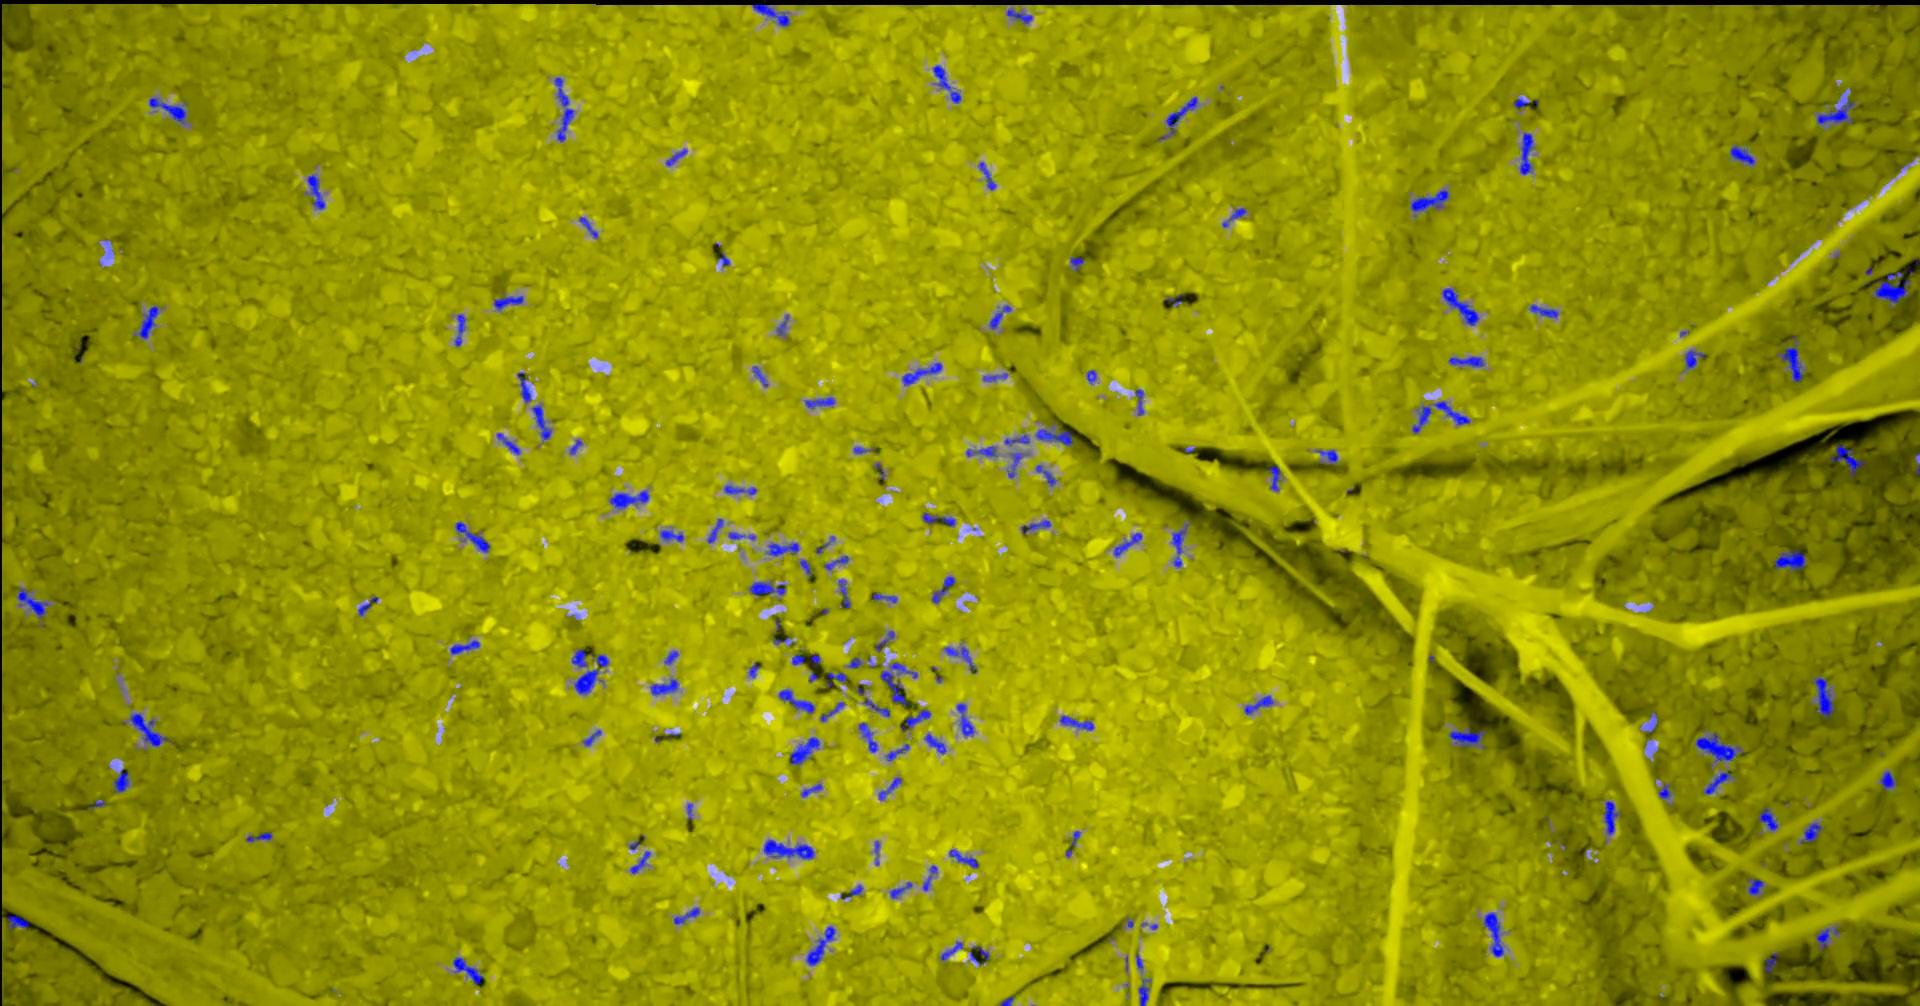ant: (1412, 401, 1469, 433), (1158, 97, 1197, 140), (571, 648, 608, 694), (880, 662, 917, 706), (1695, 732, 1743, 761), (1441, 287, 1478, 325), (130, 713, 169, 746), (554, 77, 574, 141), (1873, 271, 1910, 304), (805, 926, 836, 965), (1778, 335, 1802, 382), (1829, 445, 1864, 476), (1816, 95, 1854, 124), (932, 64, 960, 103), (455, 521, 489, 553), (1410, 189, 1448, 216), (149, 97, 185, 123), (17, 587, 47, 619), (763, 840, 814, 859), (1483, 912, 1503, 956), (902, 362, 941, 385), (789, 735, 819, 765), (750, 3, 789, 25), (778, 688, 814, 713), (452, 956, 483, 984), (1812, 677, 1834, 716), (943, 647, 977, 672), (135, 305, 157, 338), (1448, 727, 1484, 747), (1171, 523, 1187, 567), (1112, 532, 1142, 556), (1773, 549, 1804, 570), (531, 404, 550, 439), (610, 490, 648, 508), (900, 708, 930, 730), (1703, 771, 1732, 794), (931, 575, 954, 603), (1035, 428, 1072, 445), (307, 174, 324, 210), (1519, 132, 1533, 174), (858, 721, 877, 752), (1603, 800, 1619, 835), (949, 848, 978, 868), (956, 702, 973, 735), (977, 161, 996, 189), (1244, 695, 1272, 714), (1059, 715, 1093, 730), (877, 777, 902, 799), (1815, 927, 1839, 949), (749, 580, 785, 594), (629, 850, 650, 873), (497, 433, 521, 453), (820, 701, 844, 721), (863, 697, 889, 716), (1035, 464, 1057, 485), (1801, 822, 1822, 843), (1222, 207, 1244, 227), (989, 305, 1010, 328), (1757, 807, 1778, 829), (650, 678, 678, 695), (1730, 145, 1754, 164), (1006, 452, 1023, 478), (450, 639, 479, 654), (922, 512, 954, 526), (766, 542, 797, 556), (1684, 349, 1705, 370), (874, 630, 894, 652), (924, 733, 946, 753), (940, 941, 963, 960), (1020, 520, 1050, 533), (1448, 356, 1484, 367), (673, 907, 698, 923), (578, 216, 597, 238), (493, 295, 522, 309), (1529, 304, 1558, 318), (885, 743, 909, 760), (1006, 8, 1031, 23), (357, 596, 377, 615), (922, 865, 937, 890), (969, 945, 989, 964), (1065, 829, 1079, 856), (517, 372, 530, 401), (707, 518, 723, 542), (113, 768, 128, 793), (965, 445, 997, 456), (665, 149, 687, 165), (889, 882, 910, 898), (823, 555, 848, 569), (804, 396, 834, 408), (1138, 978, 1150, 1005), (825, 671, 846, 687), (838, 579, 850, 608), (1316, 448, 1337, 464), (841, 884, 862, 899), (455, 314, 465, 345), (1267, 465, 1280, 490), (752, 366, 767, 386), (1879, 770, 1895, 790), (659, 528, 683, 541), (800, 782, 822, 796), (8, 915, 29, 929), (723, 485, 756, 494), (582, 729, 599, 746), (1747, 876, 1763, 895), (1763, 951, 1777, 972), (776, 314, 789, 335), (1512, 98, 1538, 108), (871, 592, 897, 602), (1004, 434, 1029, 445), (246, 831, 270, 841), (982, 372, 1007, 381), (1135, 387, 1143, 415), (799, 559, 811, 575), (1070, 257, 1084, 271), (664, 650, 678, 664), (728, 532, 754, 539), (1658, 784, 1670, 798), (791, 654, 804, 664)
